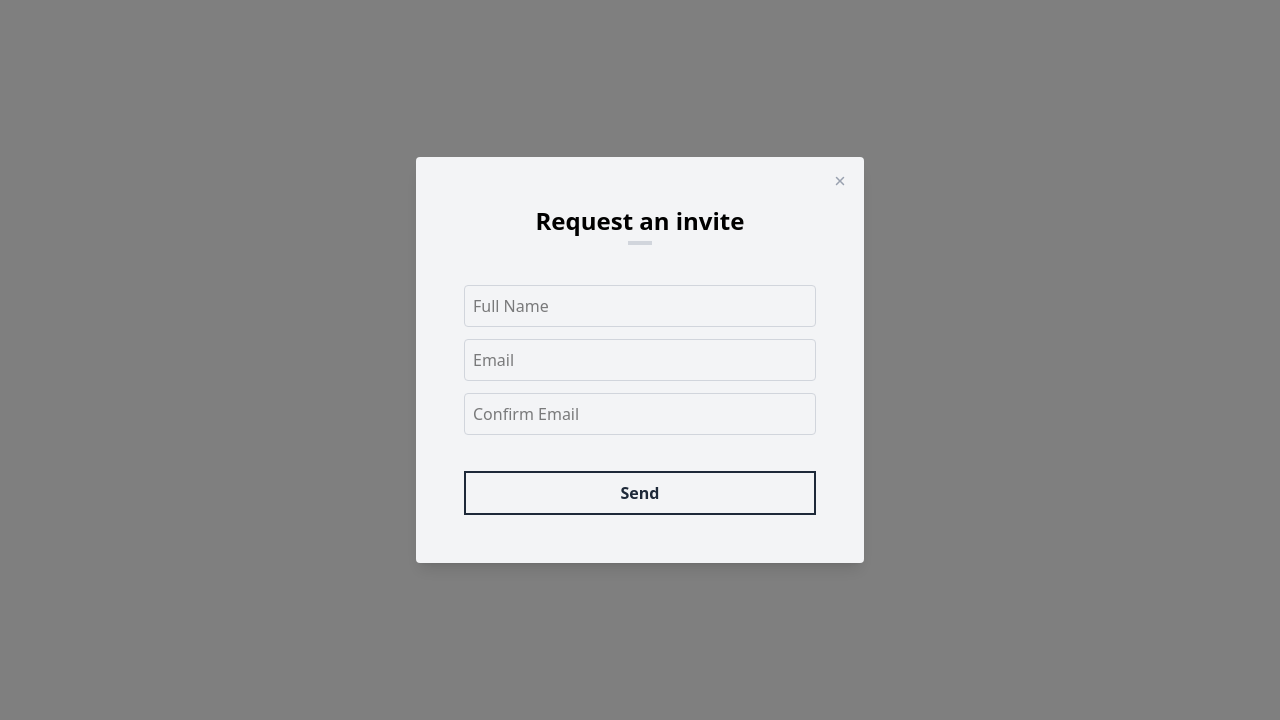
Test: InviteFormModal › shows errors when form empty
Click the button "Send". click: (640, 493)
box: [464,471,816,515]
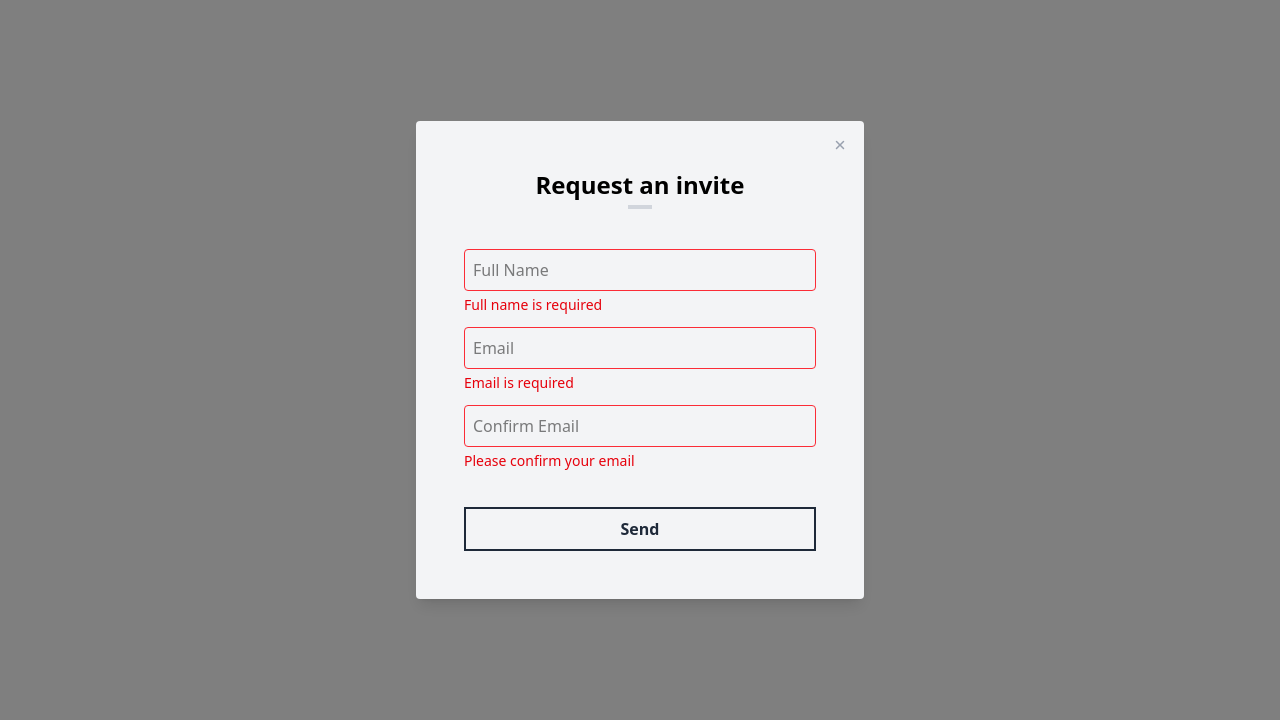
Expected: the text "Full name is required" is shown, [464,295,602,314]
Expected: the text "Email is required" is shown, [464,373,574,392]
Expected: the text "Please confirm your email" is shown, [464,451,635,470]
